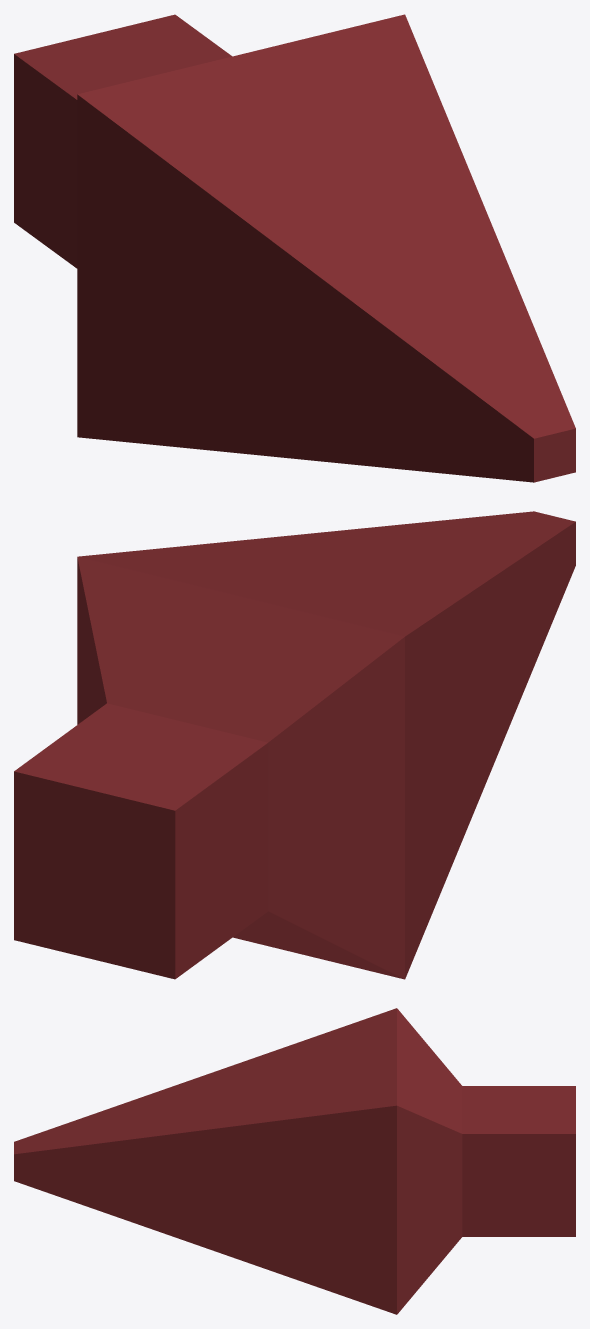
File: DAGGER.glb
The picture shows the model from 3 angles, top to bottom: view 1: azimuth 30°, elevation 25°; view 2: azimuth 150°, elevation 25°; view 3: azimuth 270°, elevation 25°; orthographic projection. The views are drawn at different scales.
Visible parts, largest first — view 1: Cube; view 2: Cube; view 3: Cube.
Part boxes in pixels (left/top/right/bottom): Cube: left=14, top=14, right=575, bottom=482; Cube: left=14, top=511, right=575, bottom=979; Cube: left=14, top=1008, right=575, bottom=1314.
Size of the model in its own units: 2.03 by 2.03 by 4.95.
